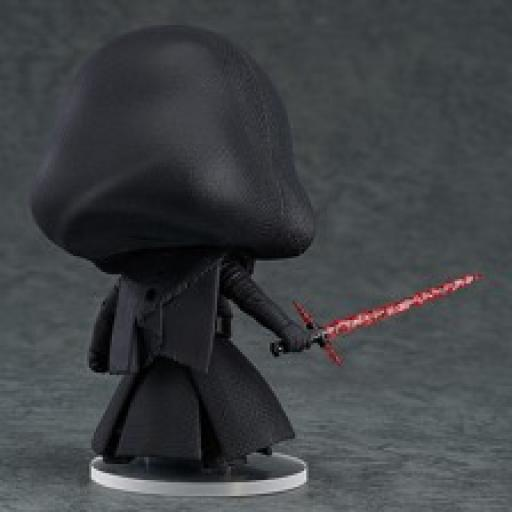sith saber: (264, 270, 489, 368)
